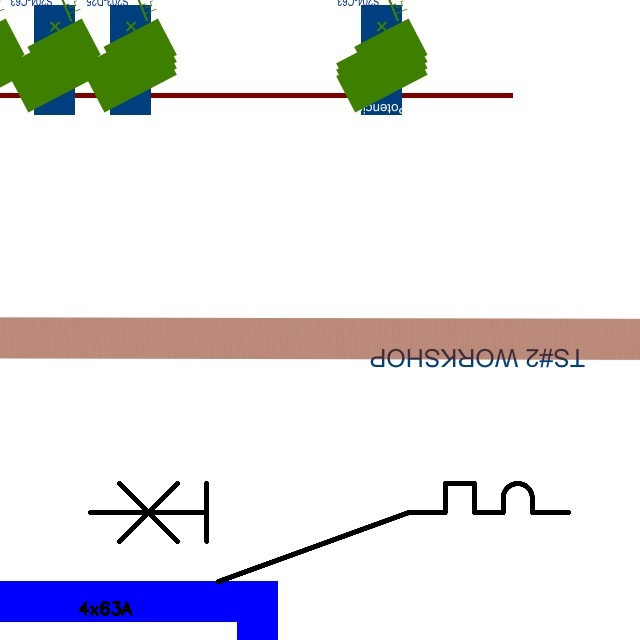interruptor_termomagnetico: (78, 471, 581, 594)
